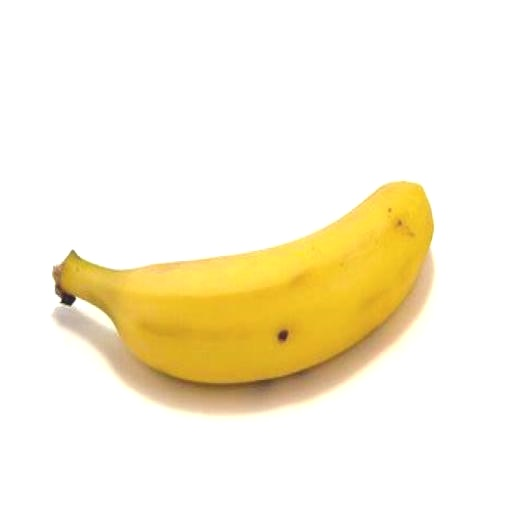fruit: (53, 182, 432, 383)
